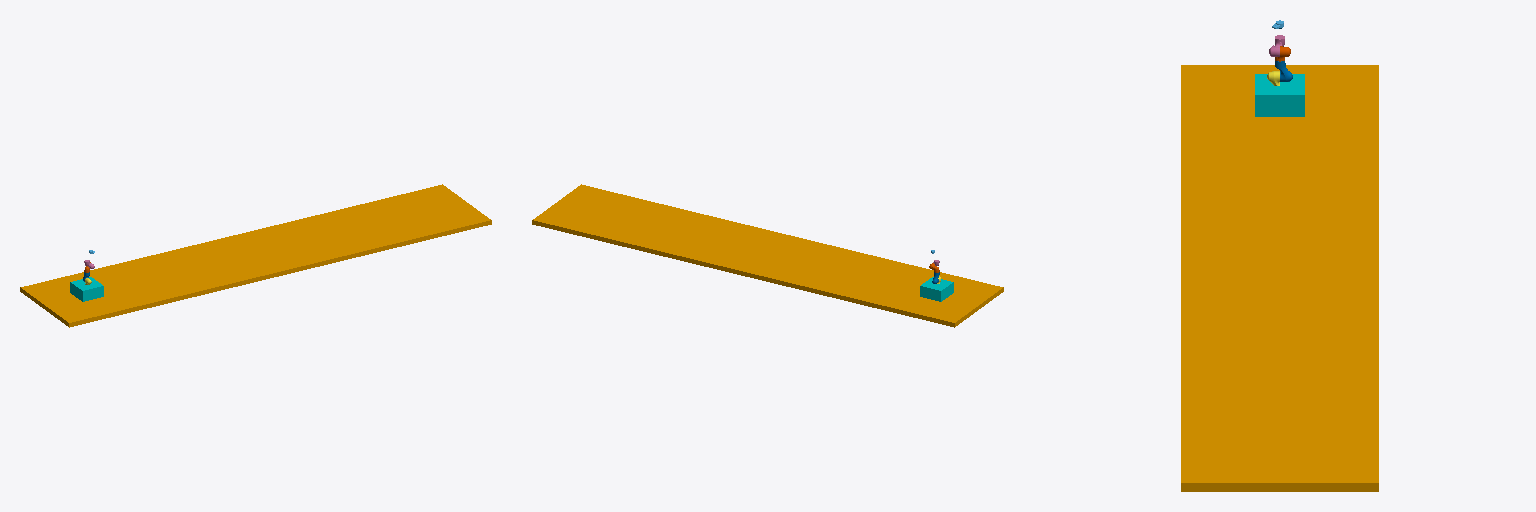
URDF robot description (panda):
<?xml version="1.0" ?>
<robot name="panda">

  <link name="floor">
    <visual>
      <origin xyz="4 0 -0.05"/>
      <geometry>
        <box size="10 2 0.1"/>
      </geometry>
    </visual>
  </link>

  <link name="box">
  <visual>
    <geometry>
      <box size=".5 .5 .5"/>
    </geometry>
    <material name="green">
      <color rgba="0 0.8 .8 .8"/>
    </material>
  </visual>
  <inertial>
    <mass value="10."/>
    <inertia ixx="1." iyy="1." izz="1." ixy="0." ixz="0." iyz="0."/>
  </inertial>
  <!-- contact points -->
  <visual>
    <origin xyz="-.25 -.25 -.25"/>
    <geometry>
      <sphere radius=".025"/>
    </geometry>
    <material name="green">
      <color rgba="0 0.1 .2 1."/>
    </material>
  </visual>
  <collision>
    <origin xyz="-.25 -.25 -.25"/>
    <geometry>
      <sphere radius="0"/>
    </geometry>
  </collision>
  <visual>
    <origin xyz="-.25 .25 -.25"/>
    <geometry>
      <sphere radius=".025"/>
    </geometry>
    <material name="green">
      <color rgba="0 0.1 .2 1."/>
    </material>
  </visual>
  <collision>
    <origin xyz="-.25 .25 -.25"/>
    <geometry>
      <sphere radius="0"/>
    </geometry>
  </collision>
  <visual>
    <origin xyz=".25 -.25 -.25"/>
    <geometry>
      <sphere radius=".025"/>
    </geometry>
    <material name="green">
      <color rgba="0 0.1 .2 1."/>
    </material>
  </visual>
  <collision>
    <origin xyz=".25 -.25 -.25"/>
    <geometry>
      <sphere radius="0"/>
    </geometry>
  </collision>
  <visual>
    <origin xyz=".25 .25 -.25"/>
    <geometry>
      <sphere radius=".025"/>
    </geometry>
    <material name="green">
      <color rgba="0 0.1 .2 1."/>
    </material>
  </visual>
  <collision>
    <origin xyz=".25 .25 -.25"/>
    <geometry>
      <sphere radius="0"/>
    </geometry>
  </collision>
  
  <!-- <visual>
    <origin xyz="-.25 -.25 .25"/>
    <geometry>
      <sphere radius=".025"/>
    </geometry>
    <material name="green">
      <color rgba="0 0.1 .2 1."/>
    </material>
  </visual>
  <collision>
    <origin xyz="-.25 -.25 .25"/>
    <geometry>
      <sphere radius="0"/>
    </geometry>
  </collision>
  <visual>
    <origin xyz="-.25 .25 .25"/>
    <geometry>
      <sphere radius=".025"/>
    </geometry>
    <material name="green">
      <color rgba="0 0.1 .2 1."/>
    </material>
  </visual>
  <collision>
    <origin xyz="-.25 .25 .25"/>
    <geometry>
      <sphere radius="0"/>
    </geometry>
  </collision> -->
  
  <!-- end of contact point -->
  </link>
  <joint name="floor_to_box" type="fixed">
    <parent link="floor"/>
    <child link="box"/>
    <origin xyz="0 0 0"/> <!-- this is important once we make it float -->
  </joint>

  <link name="panda_link0">
    <visual>
      <geometry>
        <mesh filename="../urdf/panda/meshes/link0.obj"/>
      </geometry>
    </visual>
    <inertial>
      <mass value="1." />
      <inertia ixx="0.3" iyy="0.3" izz="0.3" ixy="0.0" ixz="0.0" iyz="0.0" />
    </inertial>
  </link>
  <joint name="panda_joint0" type="fixed">
    <origin rpy="1.57079632679 0 0" xyz="0 0 0"/>
    <parent link="floor"/>
    <child link="panda_link0"/>
  </joint>
  <link name="panda_link1">
    <visual>
      <geometry>
        <mesh filename="../urdf/panda/meshes/link1.obj"/>
      </geometry>
    </visual>
    <inertial>
      <mass value="1." />
      <inertia ixx="0.3" iyy="0.3" izz="0.3" ixy="0.0" ixz="0.0" iyz="0.0" />
    </inertial>
  </link>
  <joint name="panda_joint1" type="revolute">
    <origin rpy="0 0 0" xyz="0 .333 0"/>
    <parent link="panda_link0"/>
    <child link="panda_link1"/>
    <axis xyz="0 1 0"/>
  </joint>
  <link name="panda_link2">
    <visual>
      <geometry>
        <mesh filename="../urdf/panda/meshes/link2.obj"/>
      </geometry>
    </visual>
    <inertial>
      <mass value="1." />
      <inertia ixx="0.3" iyy="0.3" izz="0.3" ixy="0.0" ixz="0.0" iyz="0.0" />
    </inertial>
  </link>
  <joint name="panda_joint2" type="revolute">
    <origin rpy="-1.57079632679 0 0" xyz="0 0 0"/>
    <parent link="panda_link1"/>
    <child link="panda_link2"/>
    <axis xyz="0 1 0"/>
  </joint>
  <link name="panda_link3">
    <visual>
      <geometry>
        <mesh filename="../urdf/panda/meshes/link3.obj"/>
      </geometry>
    </visual>
    <inertial>
      <mass value="1." />
      <inertia ixx="0.3" iyy="0.3" izz="0.3" ixy="0.0" ixz="0.0" iyz="0.0" />
    </inertial>
  </link>
  <joint name="panda_joint3" type="revolute">
    <origin rpy="1.57079632679 0 0" xyz="0 0 0.316"/>
    <parent link="panda_link2"/>
    <child link="panda_link3"/>
    <axis xyz="0 1 0"/>
  </joint>
  <link name="panda_link4">
    <visual>
      <geometry>
        <mesh filename="../urdf/panda/meshes/link4.obj"/>
      </geometry>
    </visual>
    <inertial>
      <mass value="1." />
      <inertia ixx="0.3" iyy="0.3" izz="0.3" ixy="0.0" ixz="0.0" iyz="0.0" />
    </inertial>
  </link>
  <joint name="panda_joint4" type="revolute">
    <origin rpy="1.57079632679 0 0" xyz="0.0825 0 0"/>
    <parent link="panda_link3"/>
    <child link="panda_link4"/>
    <axis xyz="0 1 0"/>
  </joint>
  <link name="panda_link5">
    <visual>
      <geometry>
        <mesh filename="../urdf/panda/meshes/link5.obj"/>
      </geometry>
    </visual>
    <inertial>
      <mass value="1." />
      <inertia ixx="0.3" iyy="0.3" izz="0.3" ixy="0.0" ixz="0.0" iyz="0.0" />
    </inertial>
  </link>
  <joint name="panda_joint5" type="revolute">
    <origin rpy="-1.57079632679 0 0" xyz="-0.0825 0 -0.384"/>
    <parent link="panda_link4"/>
    <child link="panda_link5"/>
    <axis xyz="0 1 0"/>
  </joint>
  <link name="panda_link6">
    <visual>
      <geometry>
        <mesh filename="../urdf/panda/meshes/link6.obj"/>
      </geometry>
    </visual>
    <inertial>
      <mass value="1." />
      <inertia ixx="0.3" iyy="0.3" izz="0.3" ixy="0.0" ixz="0.0" iyz="0.0" />
    </inertial>
  </link>
  <joint name="panda_joint6" type="revolute">
    <origin rpy="1.57079632679 0 0" xyz="0 0 0"/>
    <parent link="panda_link5"/>
    <child link="panda_link6"/>
    <axis xyz="0 1 0"/>
  </joint>
  <link name="panda_link7">
    <visual>
      <geometry>
        <mesh filename="../urdf/panda/meshes/link7.obj"/>
      </geometry>
    </visual>
    <inertial>
      <mass value="1." />
      <inertia ixx="0.3" iyy="0.3" izz="0.3" ixy="0.0" ixz="0.0" iyz="0.0" />
    </inertial>
  </link>
  <joint name="panda_joint7" type="revolute">
    <origin rpy="1.57079632679 0 0" xyz="0.088 0 0"/>
    <parent link="panda_link6"/>
    <child link="panda_link7"/>
    <axis xyz="0 1 0"/>
  </joint>
  <link name="panda_link8">
    <visual>
      <geometry>
        <sphere radius=".025"/>
      </geometry>
      <material name="blue">
        <color rgba="0 0.4 .6 1."/>
      </material>
    </visual>
    <inertial>
      <mass value="1." />
      <inertia ixx="0.3" iyy="0.3" izz="0.3" ixy="0.0" ixz="0.0" iyz="0.0" />
    </inertial>
    <collision>
      <geometry>
        <sphere radius="0"/>
      </geometry>
    </collision>
  </link>
  <joint name="panda_joint8" type="fixed">
    <origin rpy="0 0 0" xyz="0 .1 0"/>
    <parent link="panda_link7"/>
    <child link="panda_link8"/>
  </joint>
</robot>

--- Render facts (derived) ---
3 views of the same robot in one strip: view 1: azimuth 30°, elevation 25°; view 2: azimuth 150°, elevation 25°; view 3: azimuth 270°, elevation 25° (orthographic).
Robot: panda — 11 links, 10 joints (7 revolute, 3 fixed); root link floor; default pose: all joints at 0.
Links seen in each view (by area): view 1: floor, box; view 2: floor, box; view 3: floor, box.
Link boxes in pixels (x1,y1,x2,y2): floor: (20,184,491,327); box: (70,277,103,301); floor: (532,184,1003,327); box: (920,277,953,301); floor: (1181,65,1378,491); box: (1255,74,1304,116).
Size in the robot's own frame: 10 by 2 by 1.26 metres.
5 mesh visuals loaded from 8 distinct referenced files (5 OBJ); not drawn: 3 (reference not matched to a file when rendering).